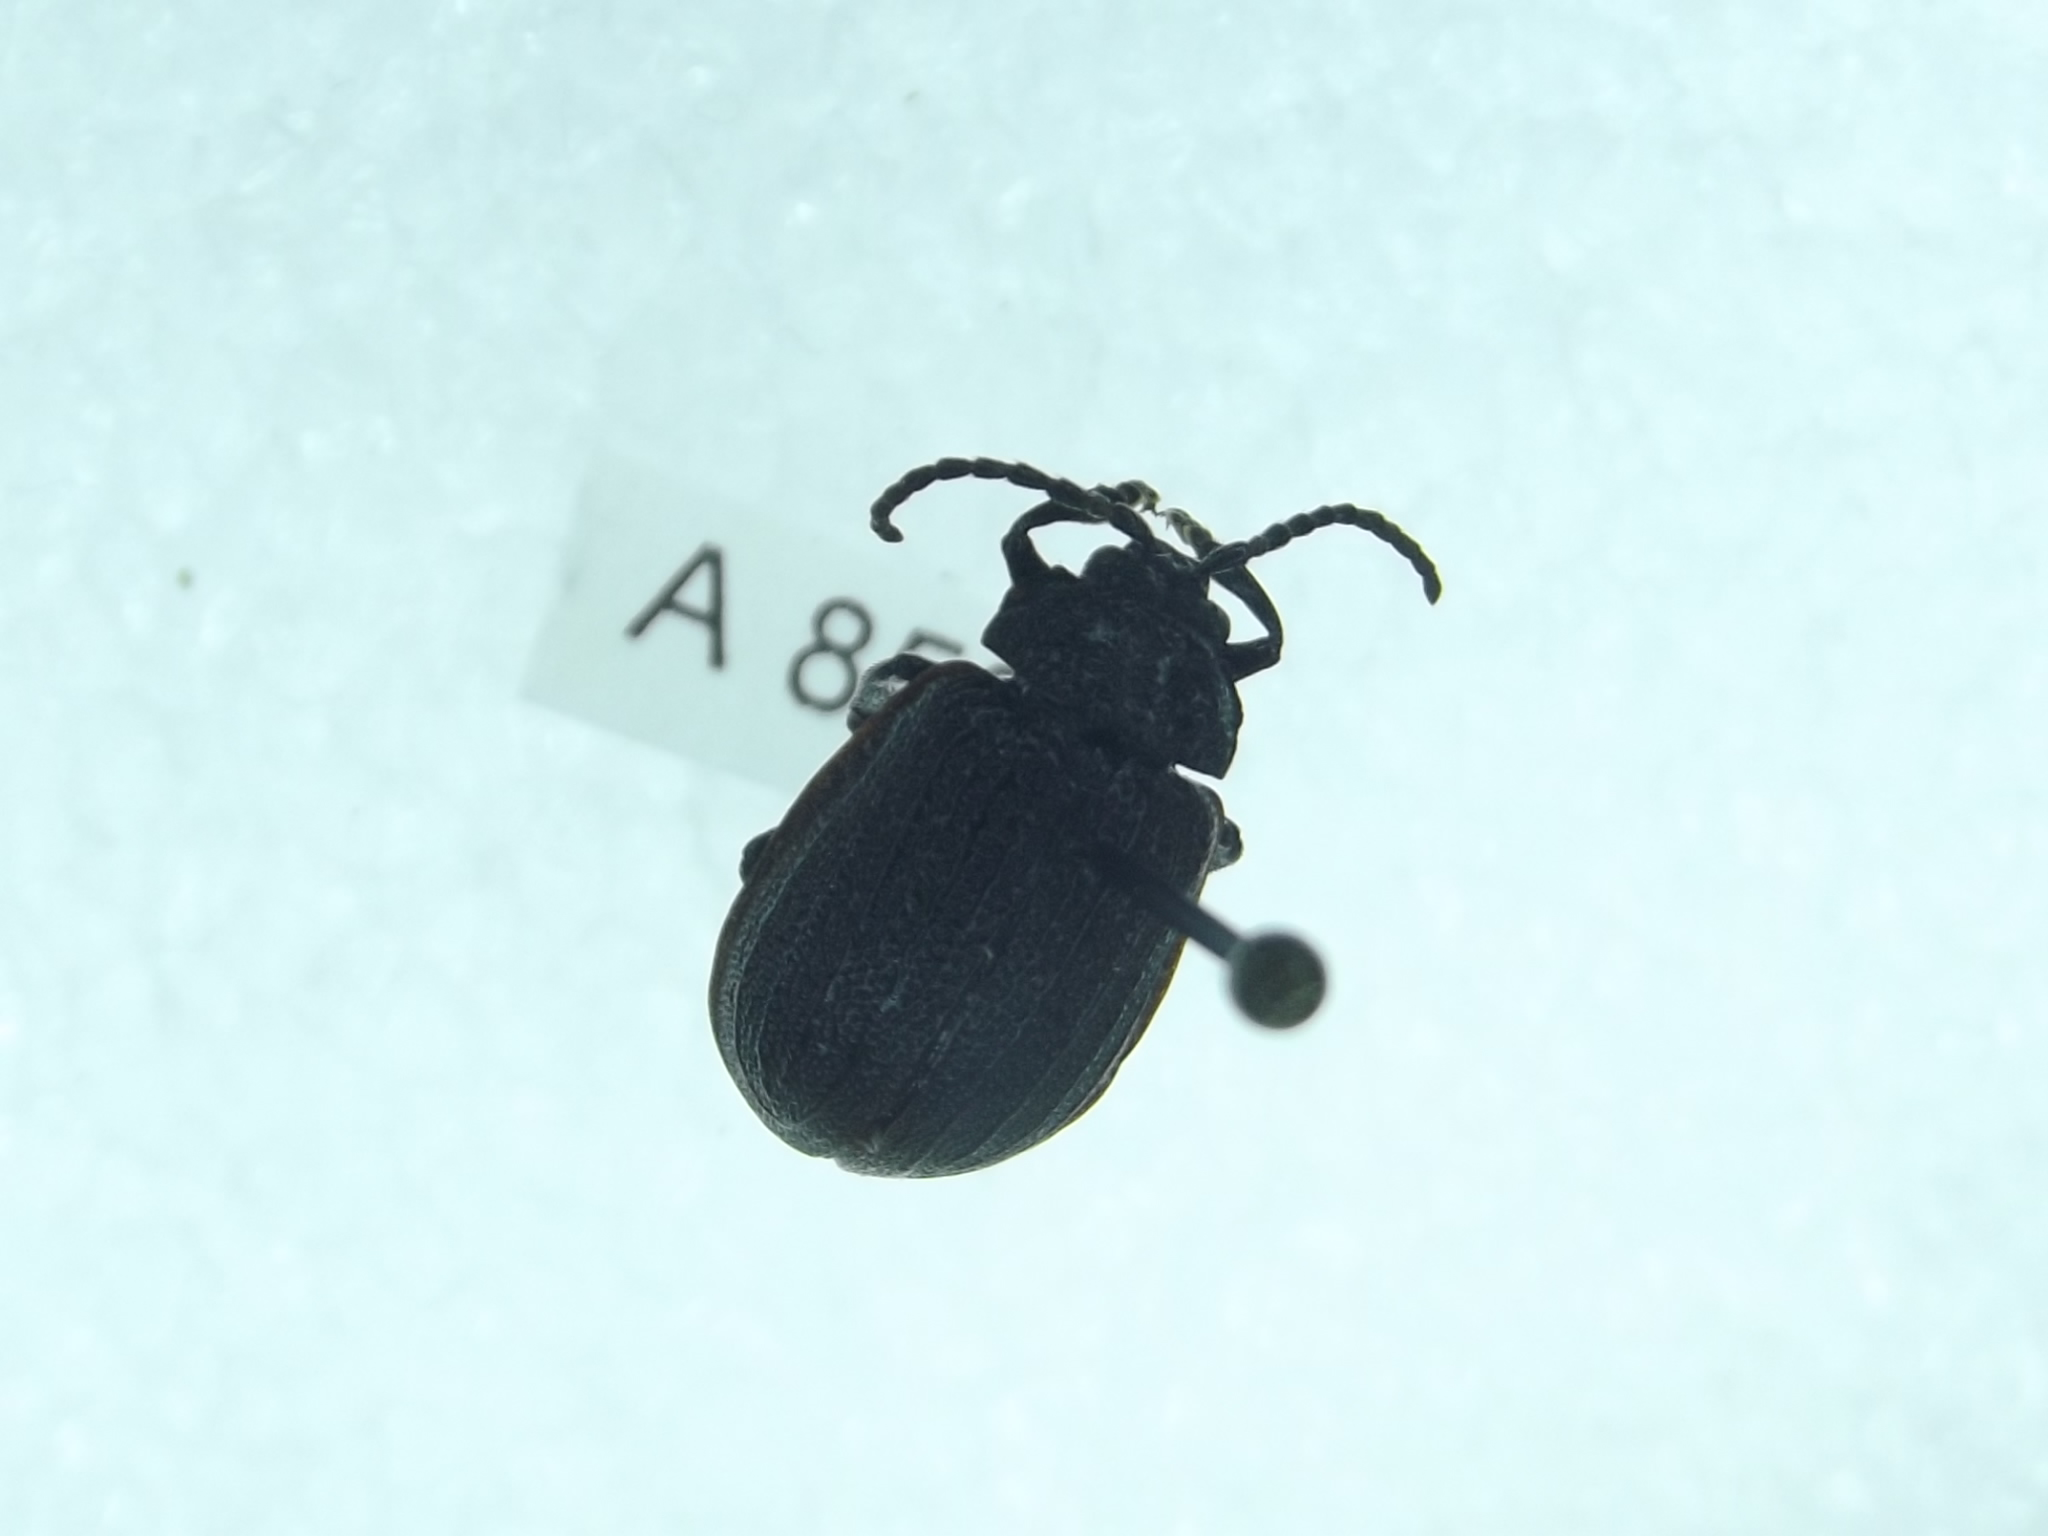Galeruca_tanaceti: (668, 432, 1464, 1213)
